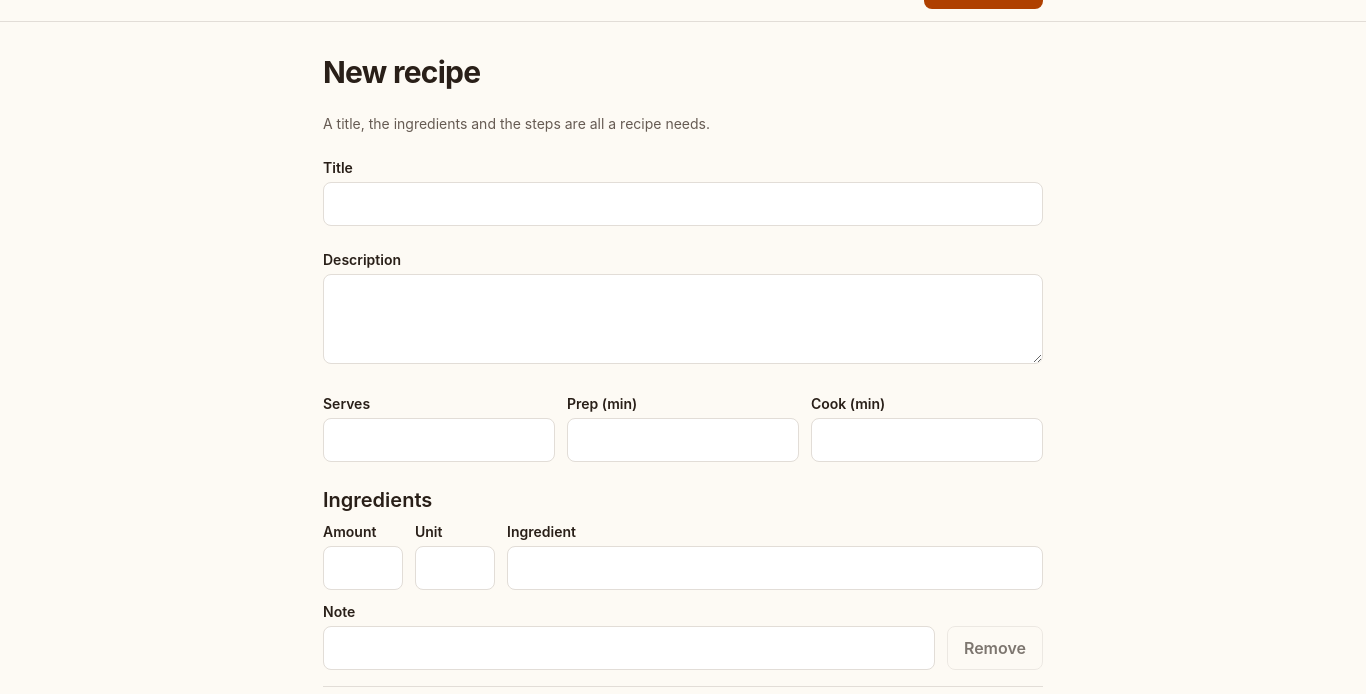
Test case: a 400 that names no field still says it couldn't be saved
Type "Toast" into the field labelled "Title". click: (683, 204)
box: left=323, top=182, right=1043, bottom=226
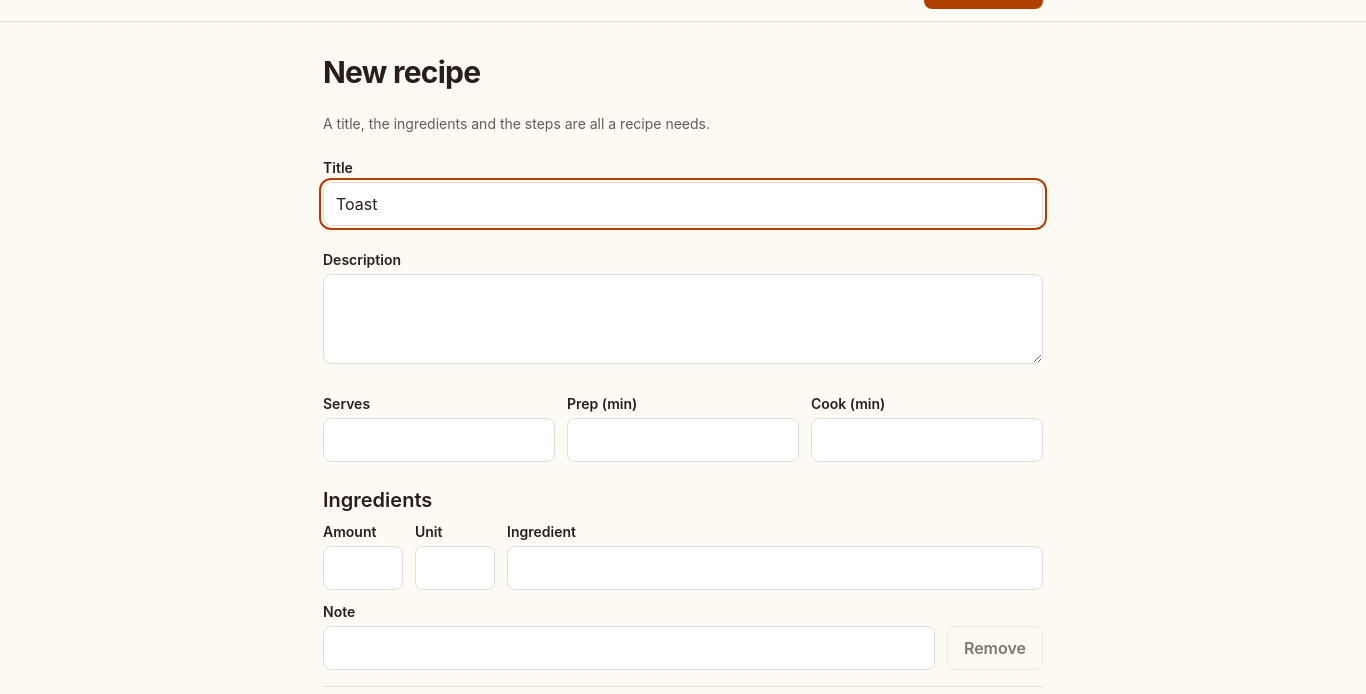
Type "bread" into the field labelled "Ingredient". click: (775, 568)
box: left=507, top=546, right=1043, bottom=590
(page scrolled)
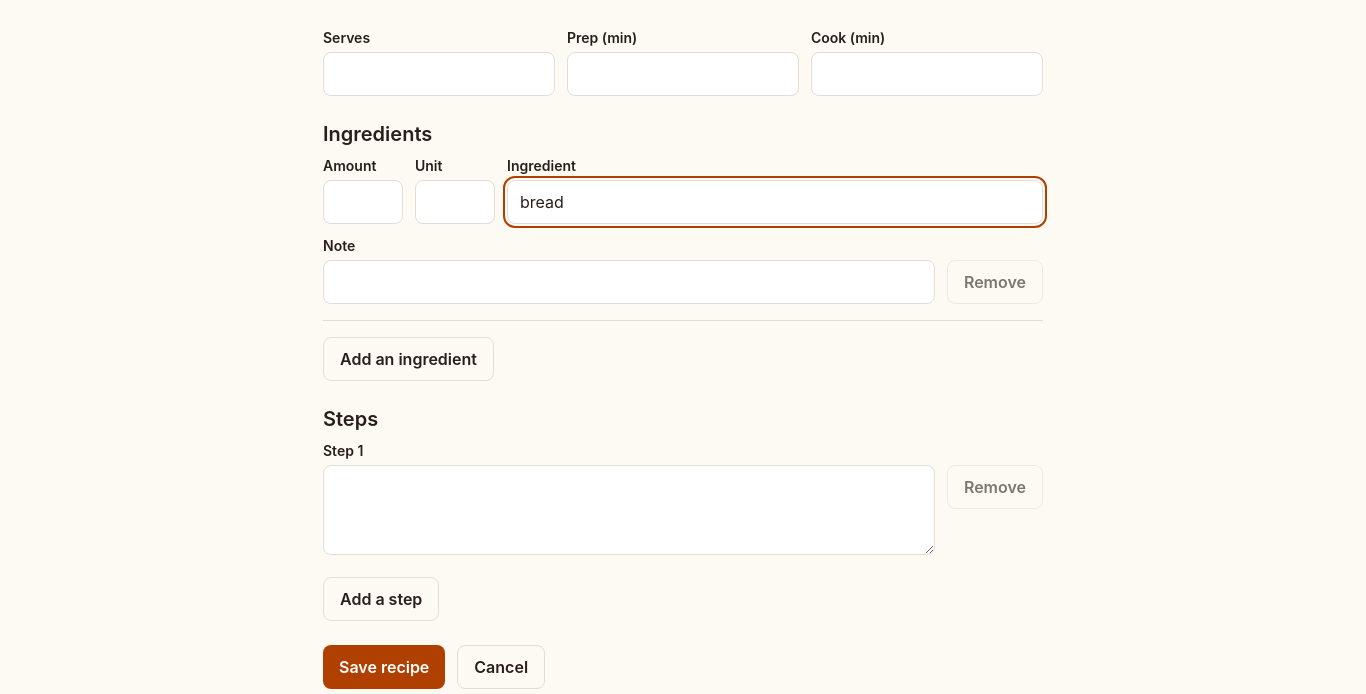
Type "Toast the bread." into the text box labelled "Step 1". click: (629, 510)
box: left=323, top=465, right=935, bottom=555
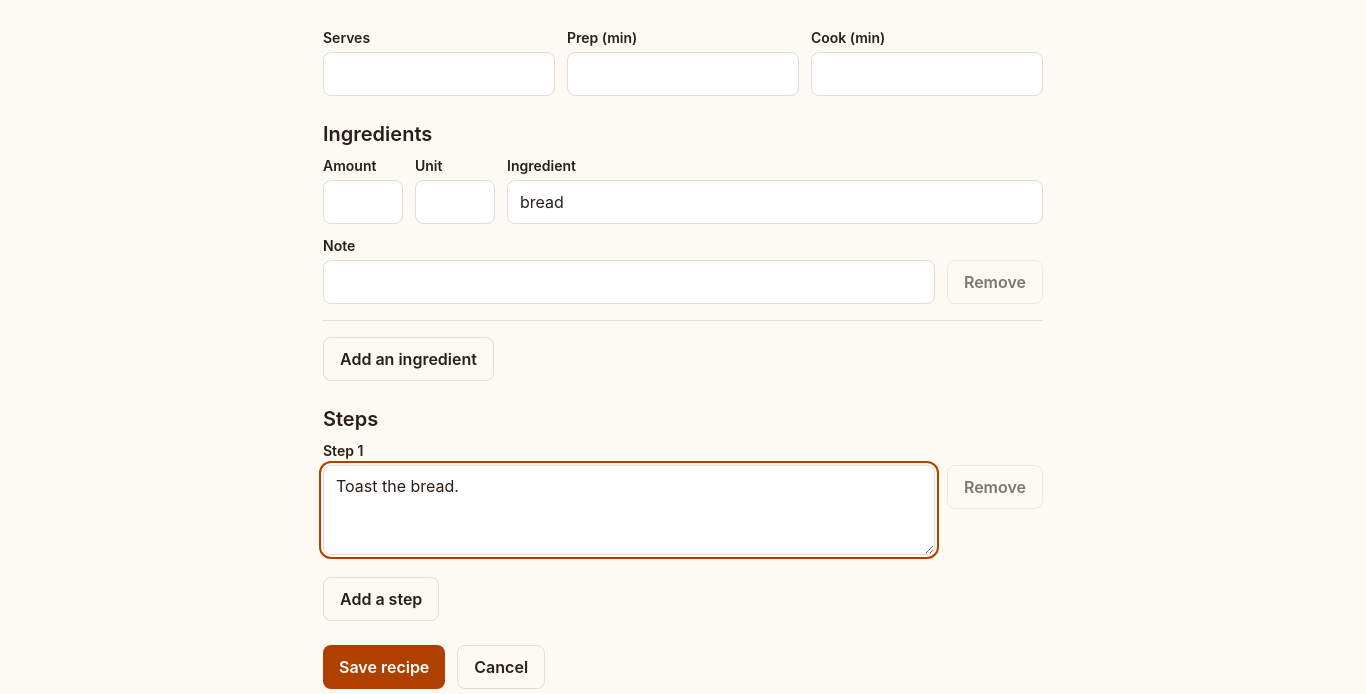
Click the button "Save recipe". click: (384, 667)
box: left=323, top=645, right=445, bottom=689
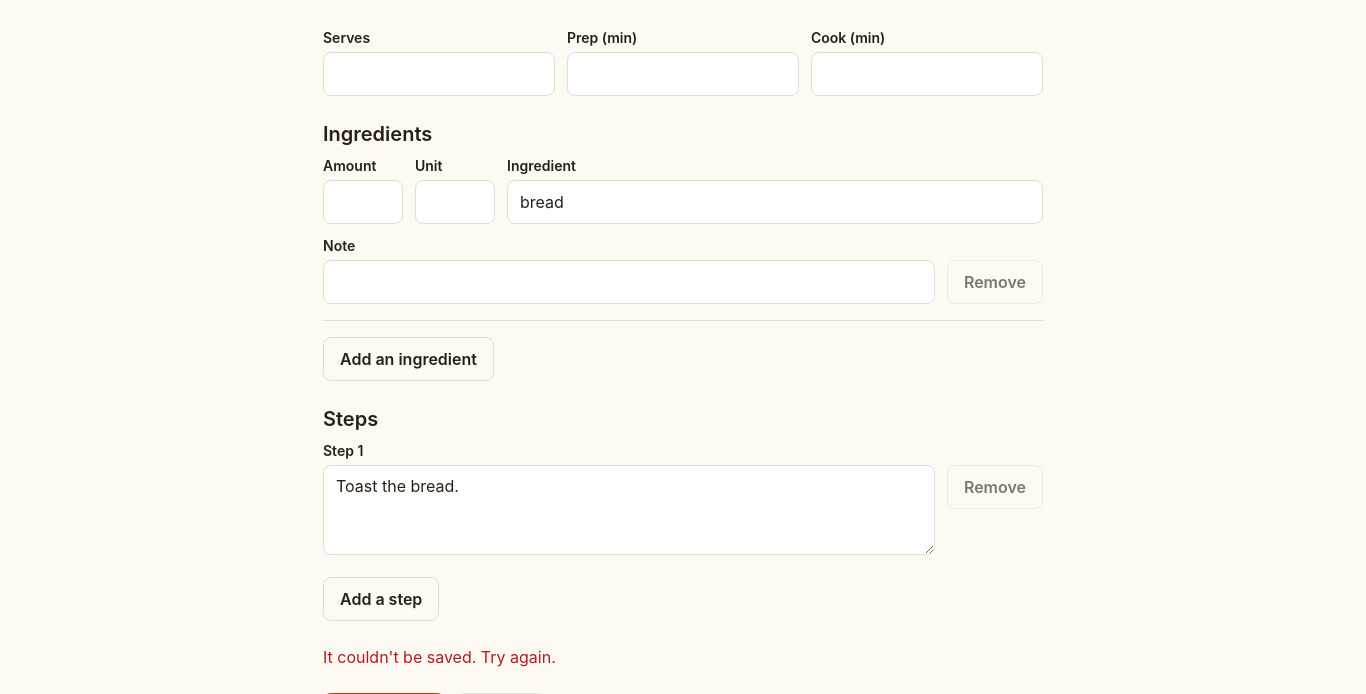
Now the text "It couldn't be saved. Try again." is shown, box left=323, top=647, right=556, bottom=667
